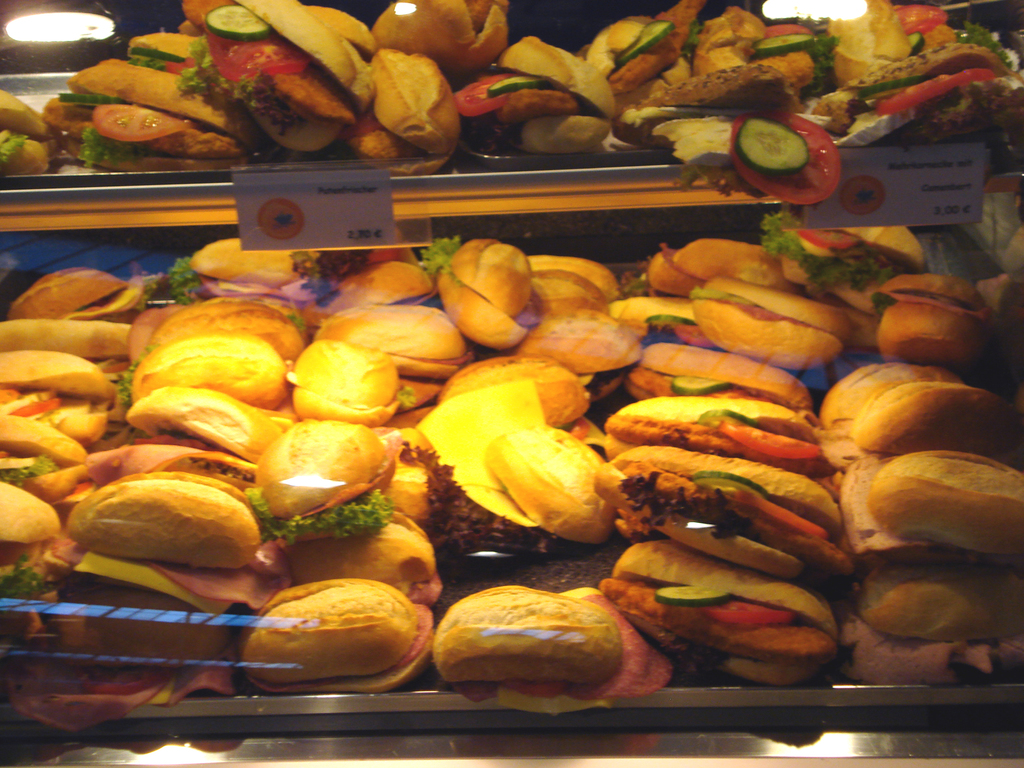Hamburger: (0, 224, 1023, 732), (0, 0, 1023, 204)
